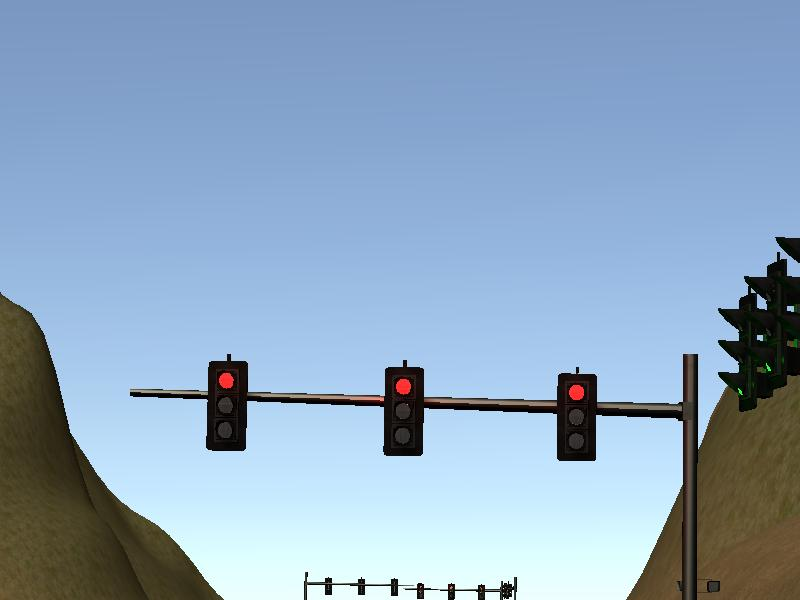red: (207, 359, 248, 452), (382, 365, 423, 458), (556, 372, 597, 465)
